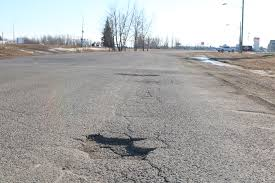pothole: (80, 131, 163, 169)
